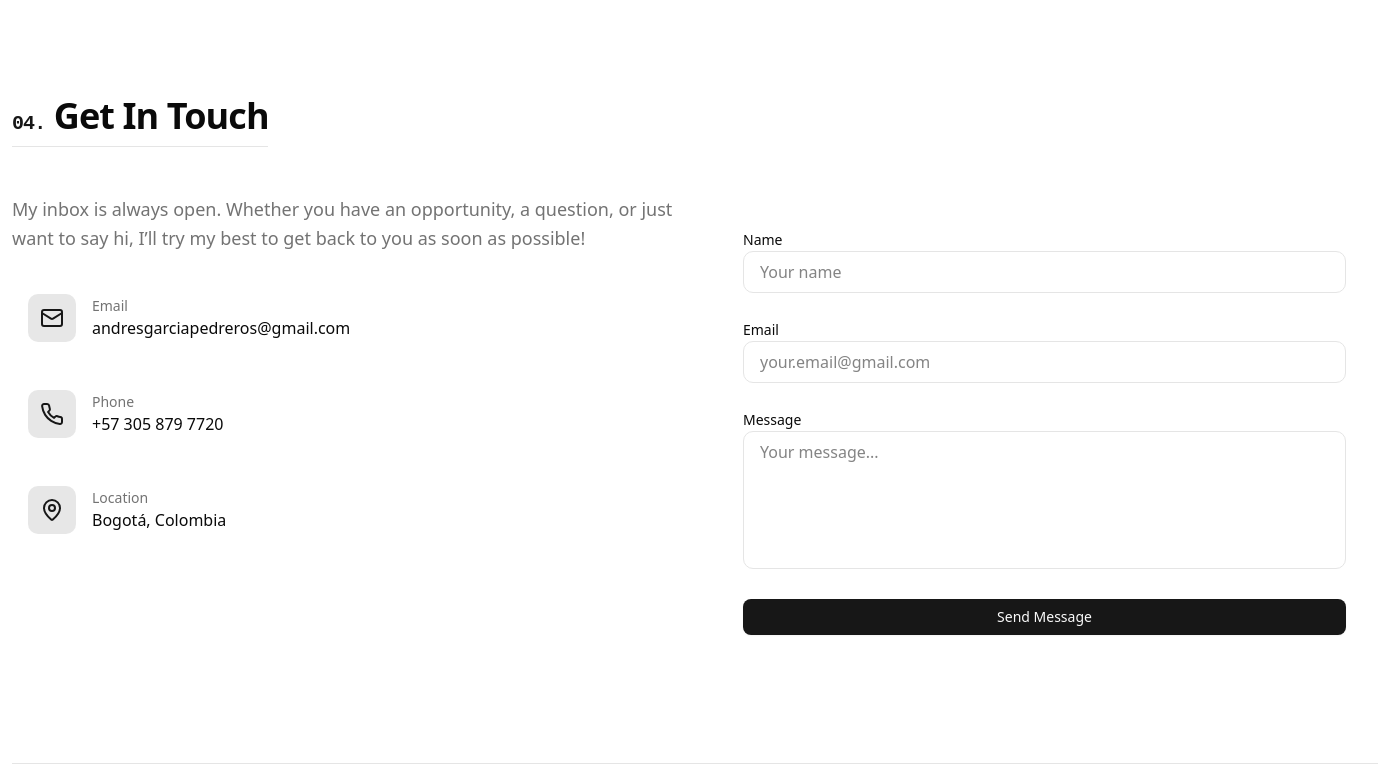
Scenario: Contact Component › submits successfully when fetch resolves ok
The width and height of the screenshot is (1378, 768).
In the field labelled "Name": (1044, 272) [743,251,1346,293], type "Andrés"
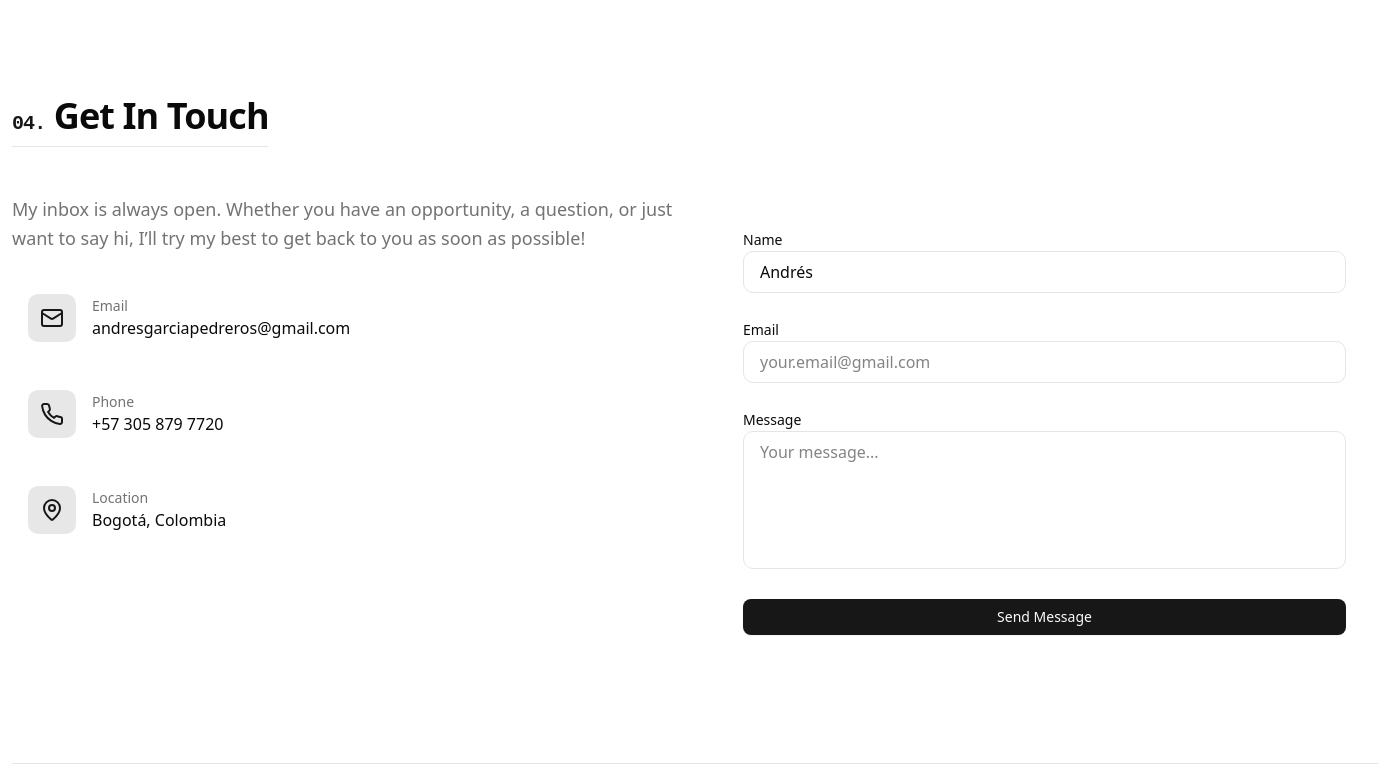
In the field labelled "Email": (1044, 362) [743,341,1346,383], type "test@mail.com"
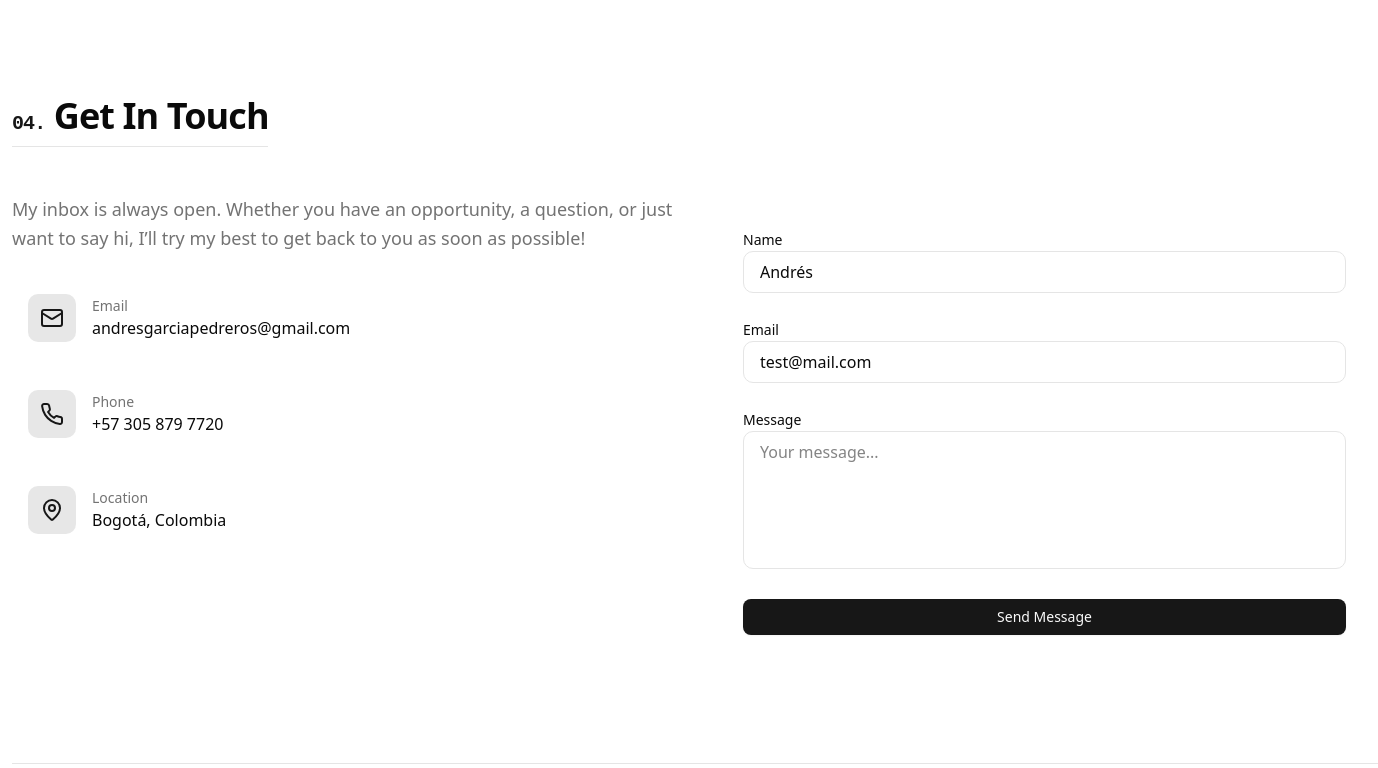
In the text box labelled "Message": (1044, 500) [743,431,1346,569], type "Hola mundo"
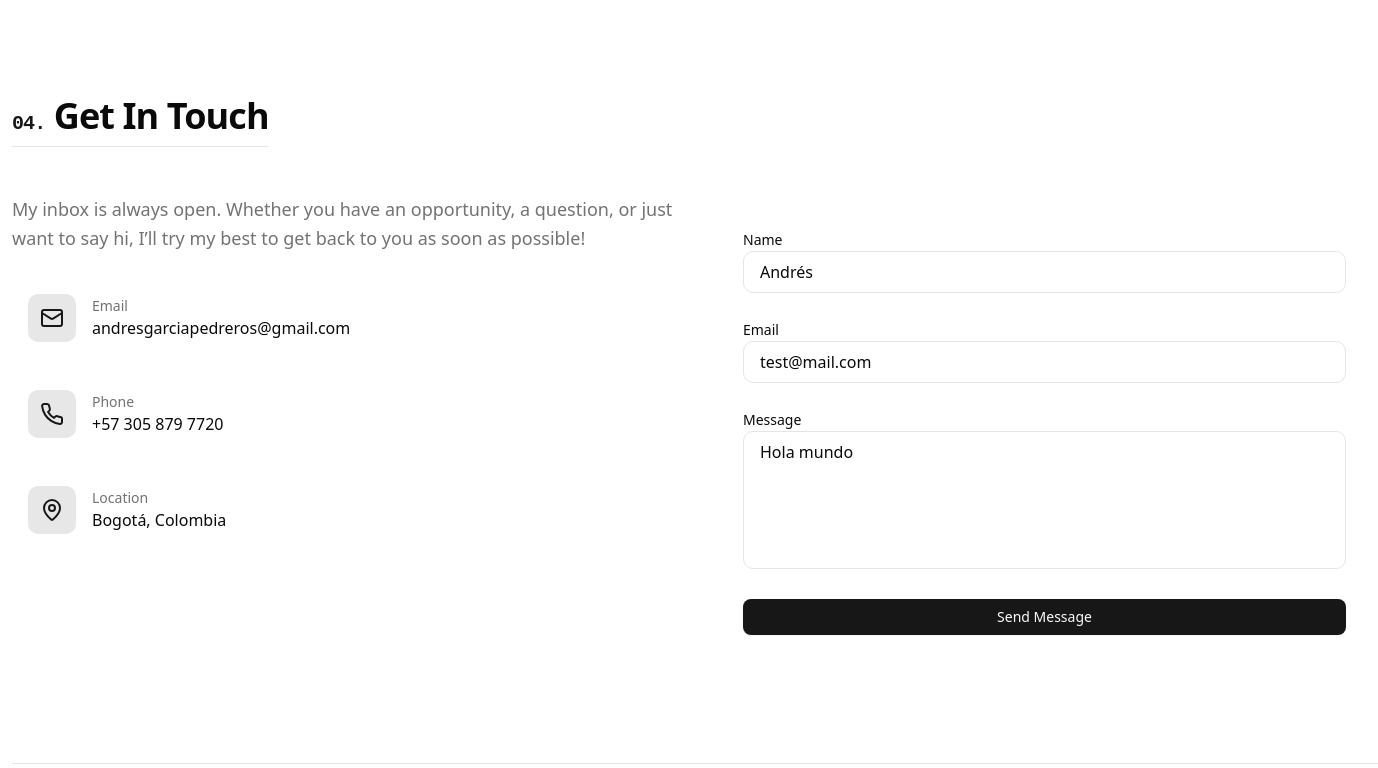
Submit the form "Name Email Message Send Message", box [743,227,1346,635]
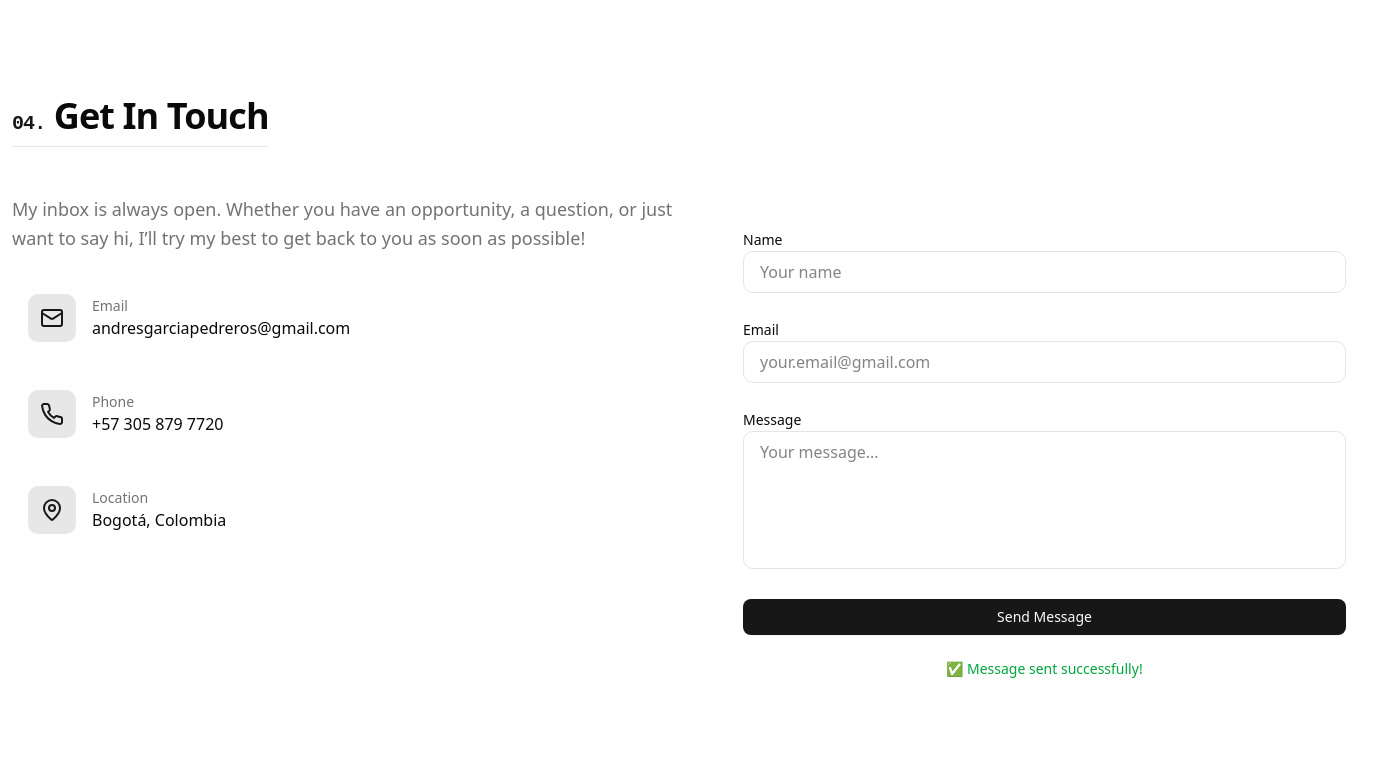
Now the text "✅ Message sent successfully!" is shown, box [946,659,1143,678]
